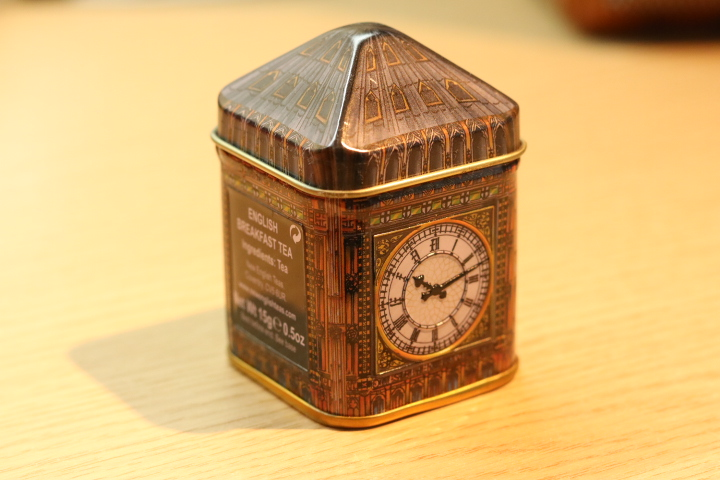Big Ben: (195, 13, 565, 451)
